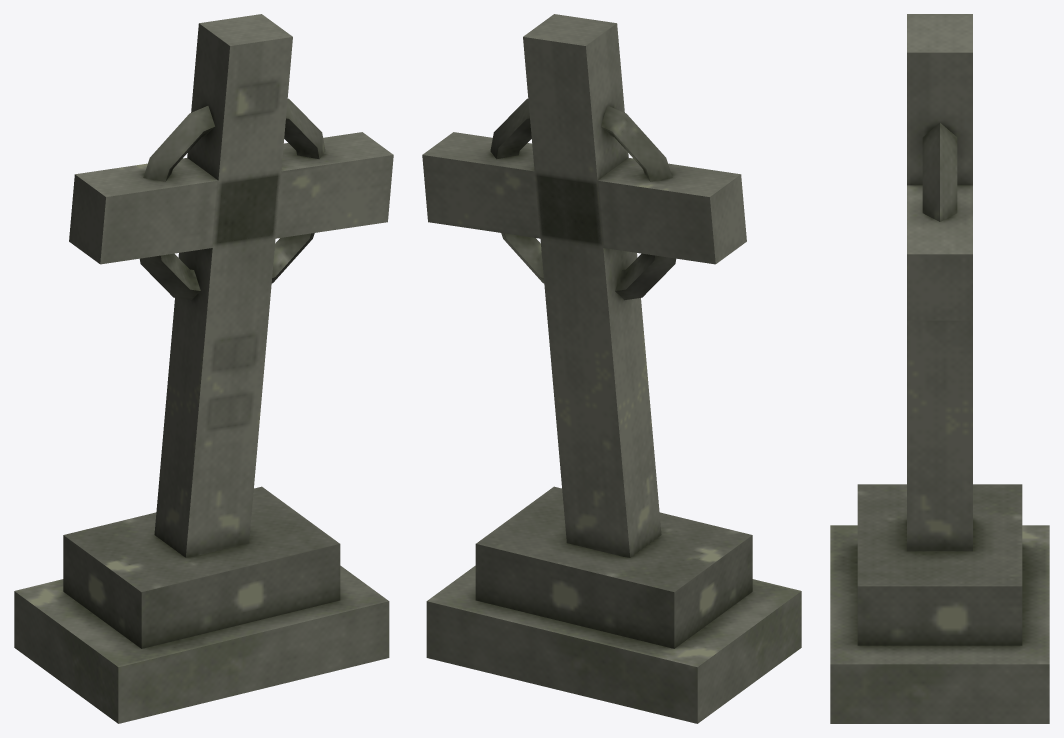
The model's file is Gravestone_Cross_01.obj.
3 renders of one model, left to right at view 1: azimuth 30°, elevation 25°; view 2: azimuth 150°, elevation 25°; view 3: azimuth 270°, elevation 25°, orthographic. The views are drawn at different scales.
Visible parts, largest first — view 1: Gravestone_Cross_01; view 2: Gravestone_Cross_01; view 3: Gravestone_Cross_01.
Boxes of the visible parts, x1=… form: Gravestone_Cross_01: x1=14, y1=14, x2=393, y2=723; Gravestone_Cross_01: x1=422, y1=14, x2=801, y2=723; Gravestone_Cross_01: x1=830, y1=14, x2=1049, y2=723.
Size of the model in its own units: 0.6907 by 1.3 by 0.4.
1 material, 1 textured.
